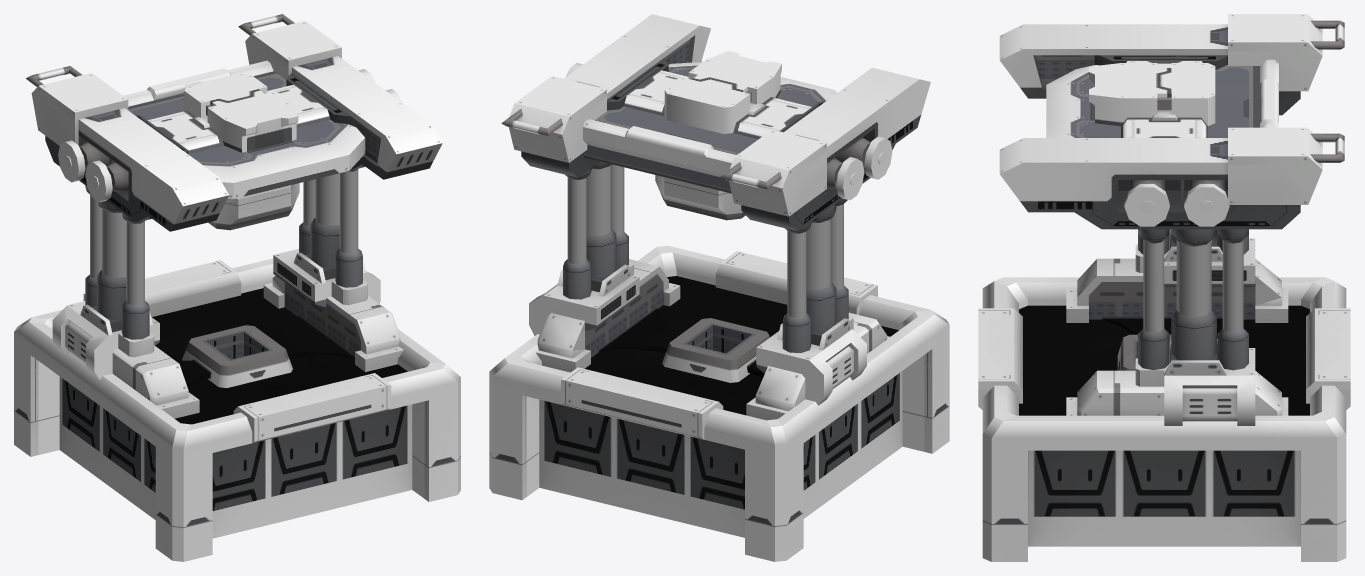
File: assembler-3.glb
3 renders of one model, left to right at view 1: azimuth 30°, elevation 25°; view 2: azimuth 150°, elevation 25°; view 3: azimuth 270°, elevation 25°, orthographic. The views are drawn at different scales.
Parts seen in each view (by area): view 1: assembler-mk-3, assembler-mk-c, assembler-mk-b, assembler-mk-c1, assembler-mk-e, assembler-mk-e1; view 2: assembler-mk-3, assembler-mk-c, assembler-mk-b, assembler-mk-c1, assembler-mk-e, assembler-mk-e1; view 3: assembler-mk-3, assembler-mk-c, assembler-mk-b, assembler-mk-e1, assembler-mk-e.
Boxes of the visible parts, left/top/right/bottom form: assembler-mk-3: left=14, top=218, right=460, bottom=561; assembler-mk-c: left=26, top=14, right=442, bottom=231; assembler-mk-b: left=90, top=169, right=358, bottom=305; assembler-mk-c1: left=208, top=183, right=299, bottom=230; assembler-mk-e: left=85, top=89, right=402, bottom=202; assembler-mk-e1: left=58, top=69, right=375, bottom=182; assembler-mk-3: left=489, top=228, right=949, bottom=561; assembler-mk-c: left=501, top=14, right=930, bottom=233; assembler-mk-b: left=567, top=164, right=843, bottom=317; assembler-mk-c1: left=655, top=175, right=745, bottom=220; assembler-mk-e: left=566, top=63, right=892, bottom=179; assembler-mk-e1: left=836, top=157, right=864, bottom=200; assembler-mk-3: left=978, top=229, right=1350, bottom=561; assembler-mk-c: left=999, top=14, right=1344, bottom=246; assembler-mk-b: left=1143, top=240, right=1243, bottom=332; assembler-mk-e1: left=1184, top=184, right=1229, bottom=226; assembler-mk-e: left=1124, top=184, right=1169, bottom=226.
Size of what is drawn, in the model's own units: 4.17 by 4.91 by 4.09.
1 material, 1 textured.
